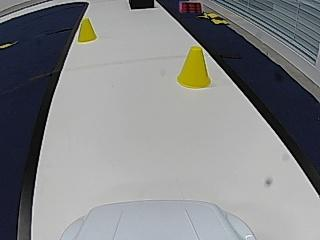block: (130, 0, 155, 10)
cone: (177, 46, 211, 88), (78, 19, 97, 42)
